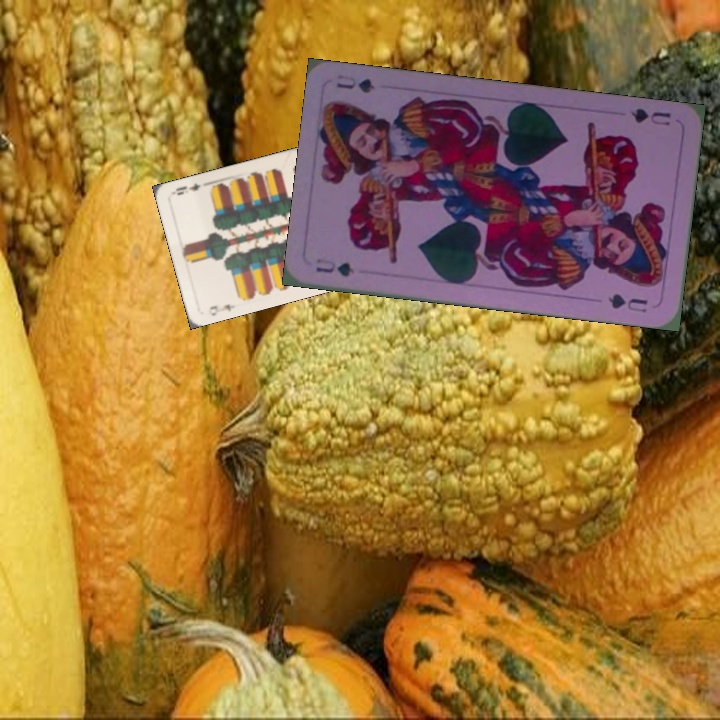E9: (206, 300, 238, 318)
GU: (311, 254, 358, 279), (627, 104, 673, 129)
